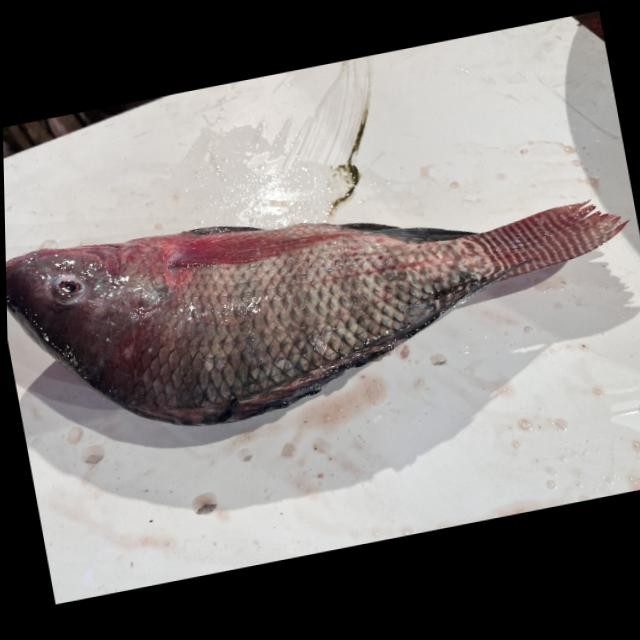Tilapia: (4, 137, 640, 459)
